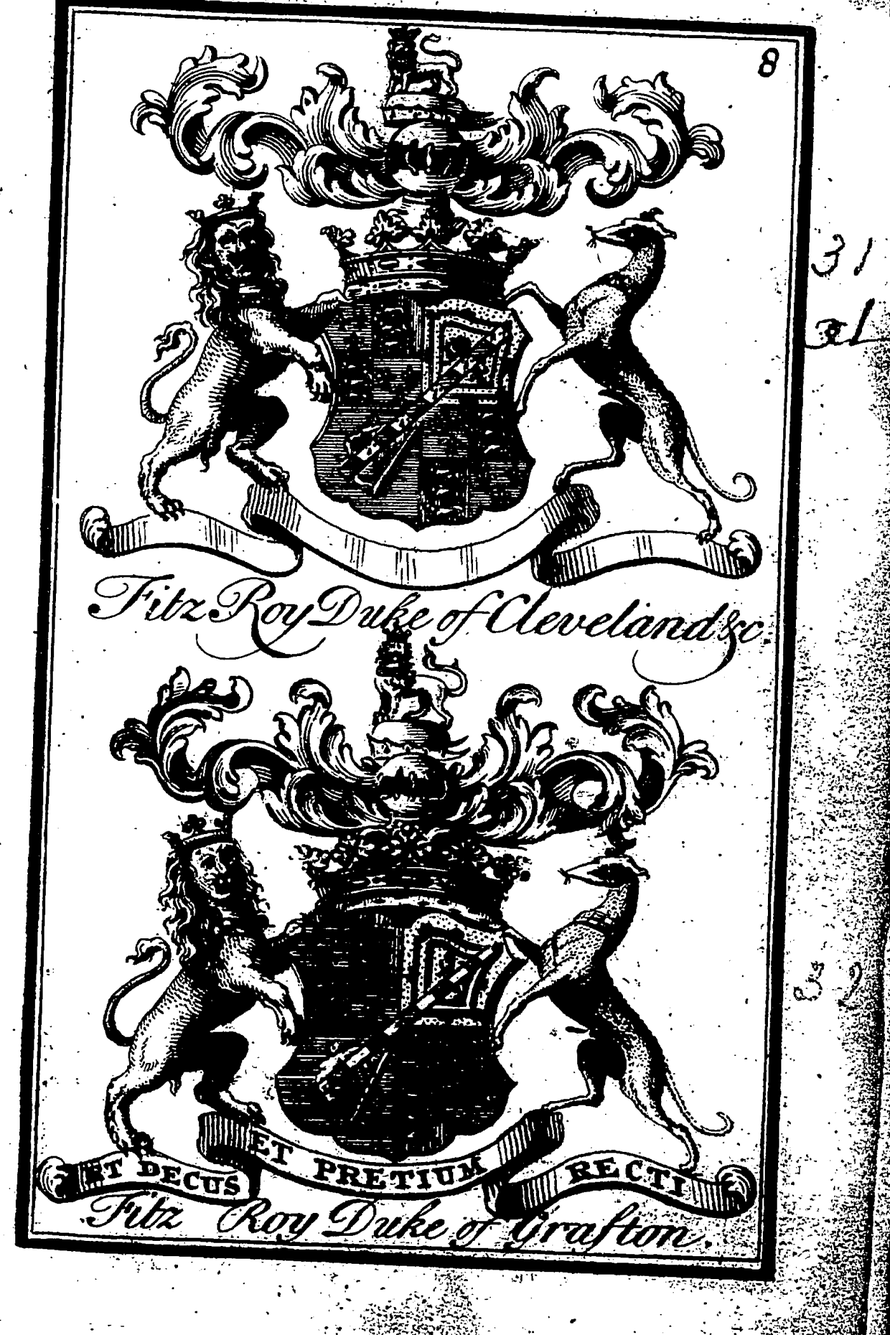coat_of_arms: (92, 14, 768, 660), (92, 634, 761, 1250)
